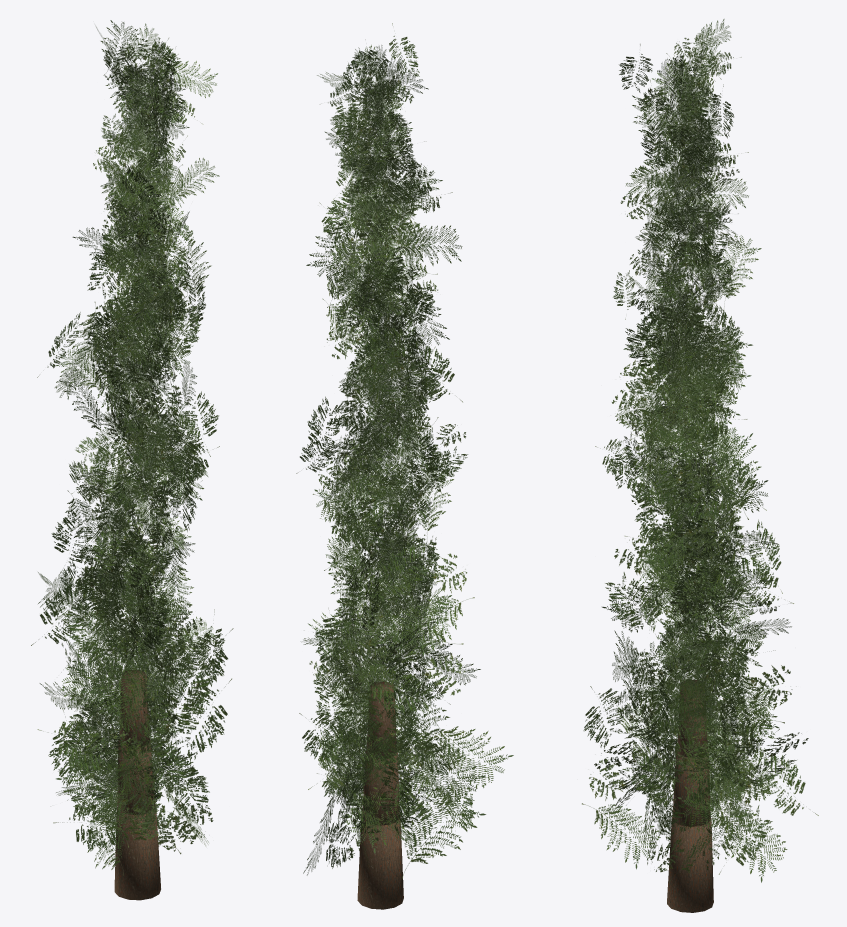
The model's file is cypress_2.glb.
The picture shows the model from 3 angles, left to right: view 1: azimuth 30°, elevation 25°; view 2: azimuth 150°, elevation 25°; view 3: azimuth 270°, elevation 25°; orthographic projection.
Parts seen in each view (by area): view 1: cypress; view 2: cypress; view 3: cypress.
Part boxes in pixels (left/top/right/bottom): cypress: left=31, top=20, right=233, bottom=900; cypress: left=296, top=23, right=513, bottom=909; cypress: left=582, top=19, right=818, bottom=912.
Bounding box in the file's own units: 3.06 × 12.46 × 3.55.
2 materials, 2 textured.
